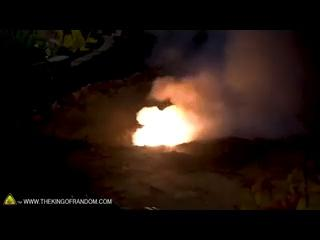Fire: (128, 99, 195, 153)
